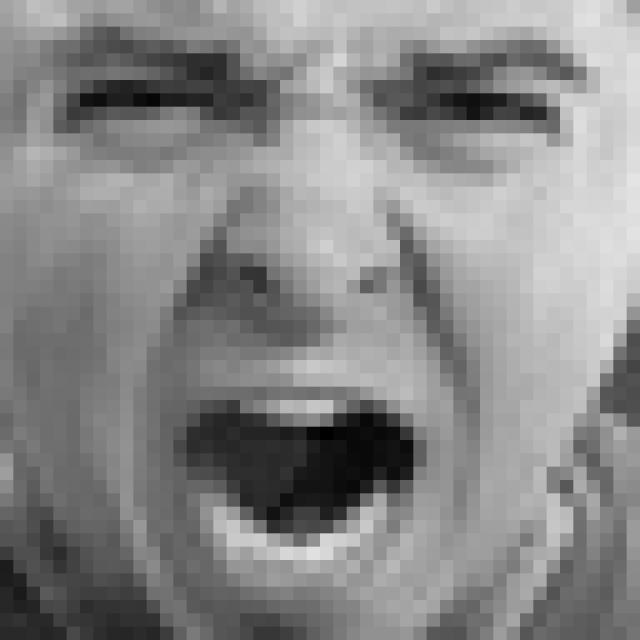angry: (33, 27, 592, 602)
